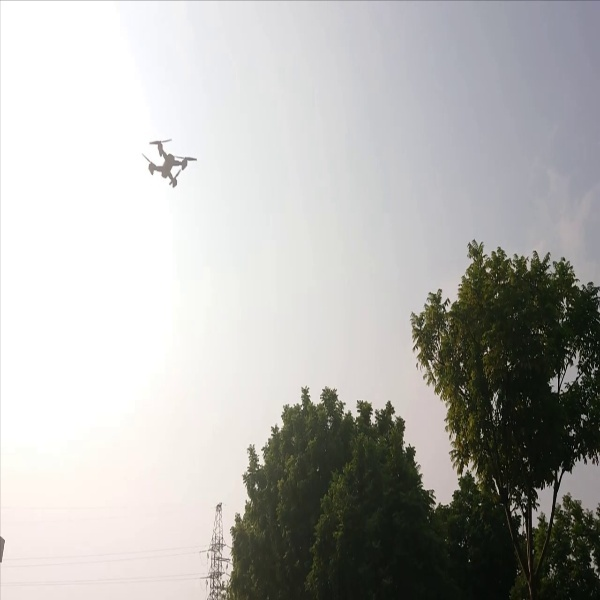drone: (130, 131, 201, 194)
